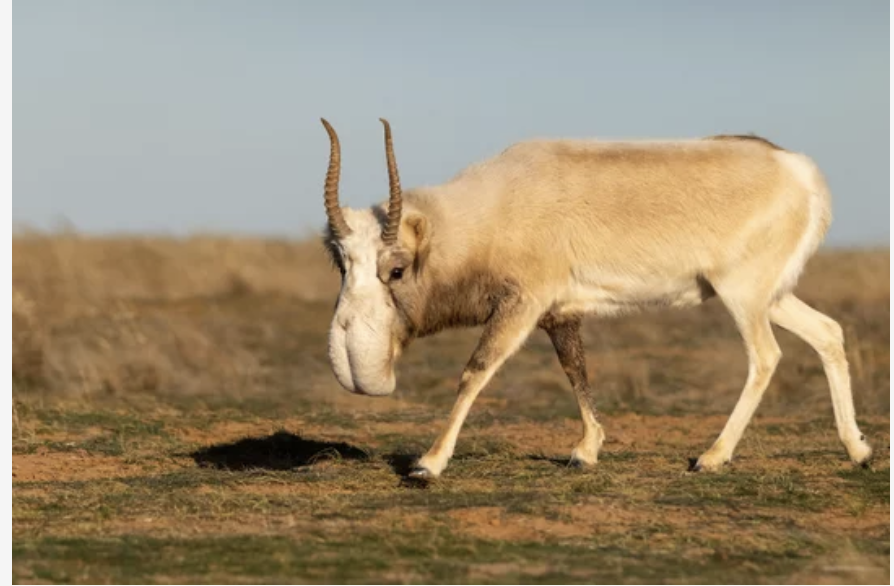saiga: (299, 107, 873, 504)
